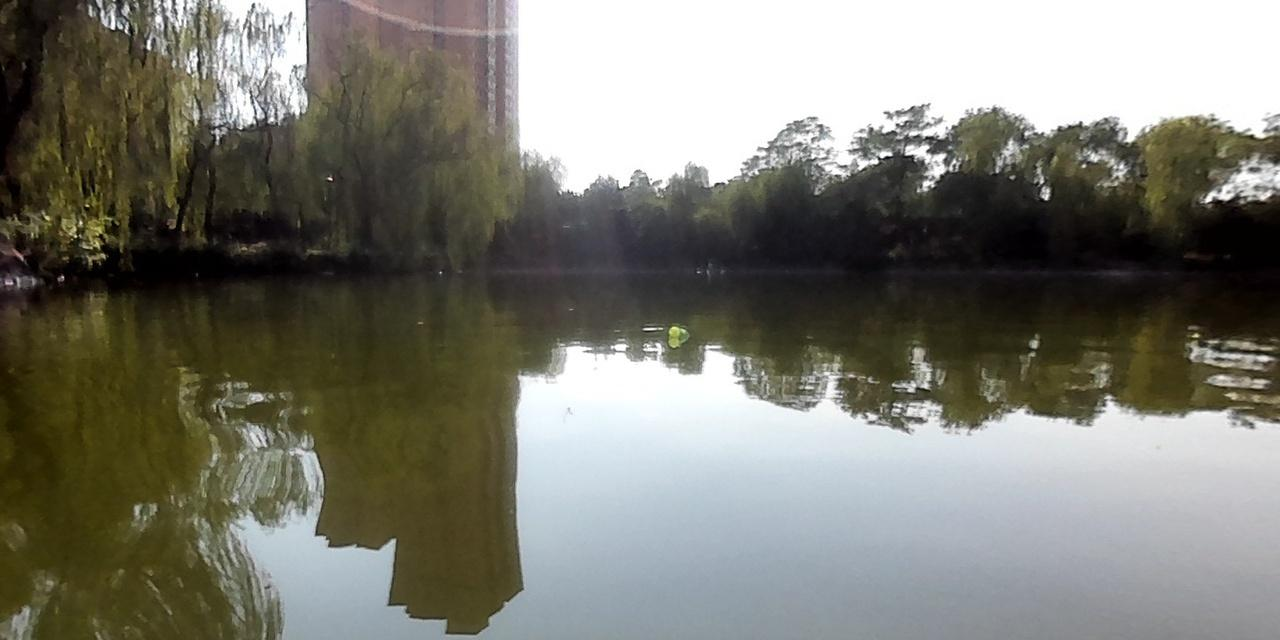bottle: (666, 325, 688, 338)
